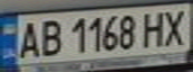1: (84, 14, 106, 52), (66, 15, 87, 54)
6: (103, 12, 121, 52)
8: (118, 11, 142, 51)
A: (12, 18, 45, 60)
B: (36, 17, 66, 57)
H: (139, 9, 169, 48)
X: (160, 7, 193, 47)
